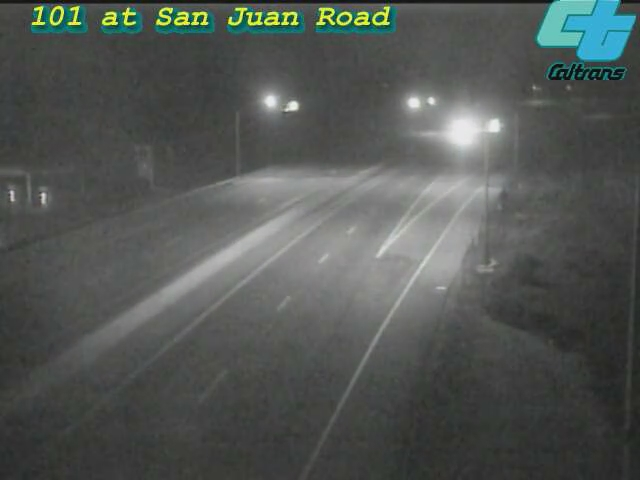vehicle: (436, 107, 486, 157), (470, 101, 520, 151)
